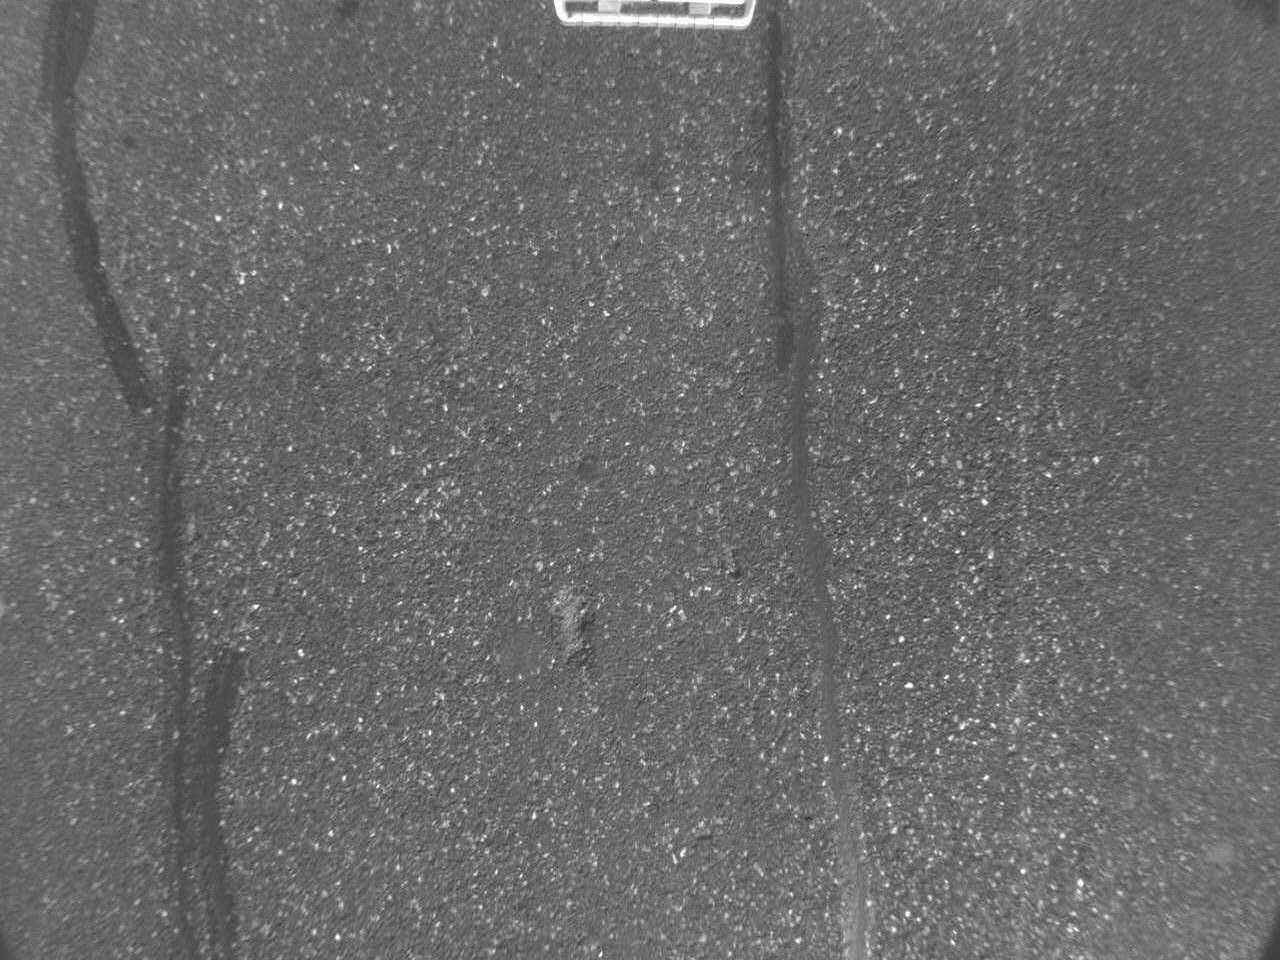sealed: (748, 19, 909, 954), (32, 1, 183, 421)
